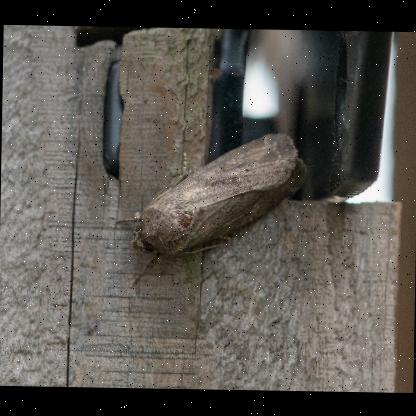Fall Armyworm Moth: (111, 126, 311, 294)
